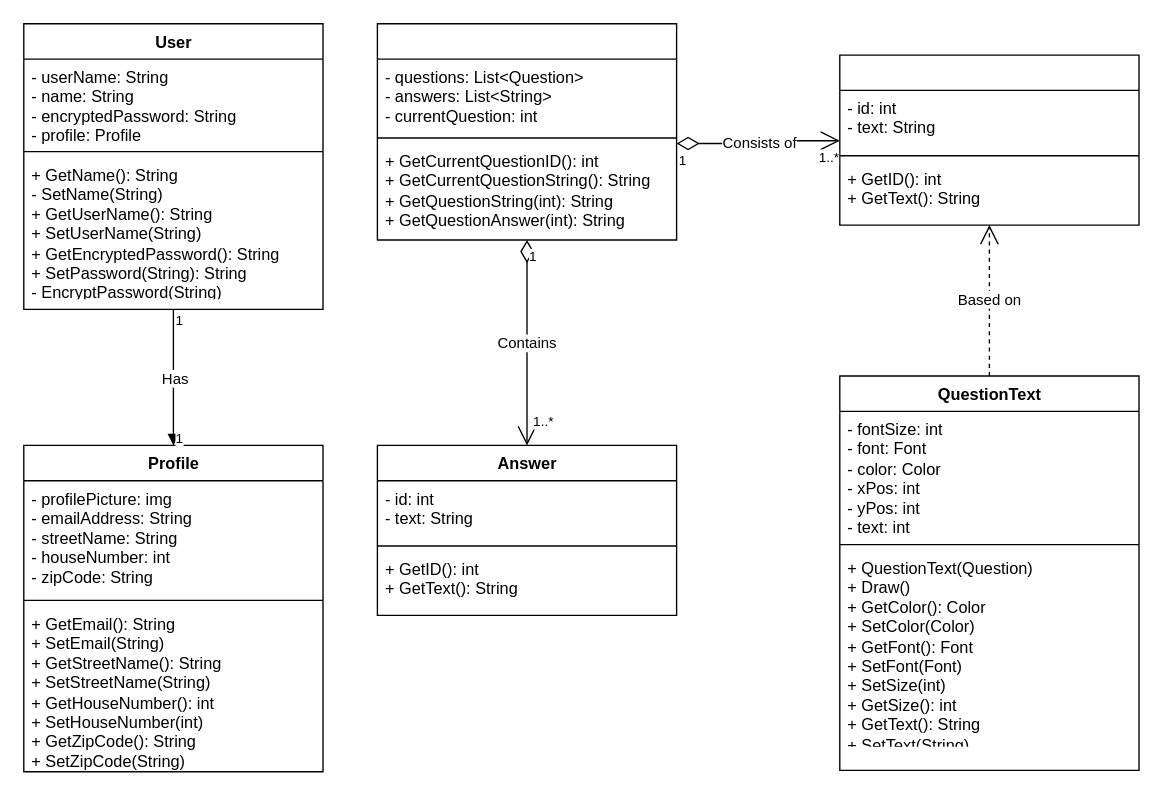
This 1163x800 diagram has some shape labels left out. The shapes that lost their labels are listed below. From the top down, each one's box as (x1, y1, x2, y2) in pixels, then its label:
(376, 22, 677, 240): Questionnaire
(838, 54, 1139, 225): Question
